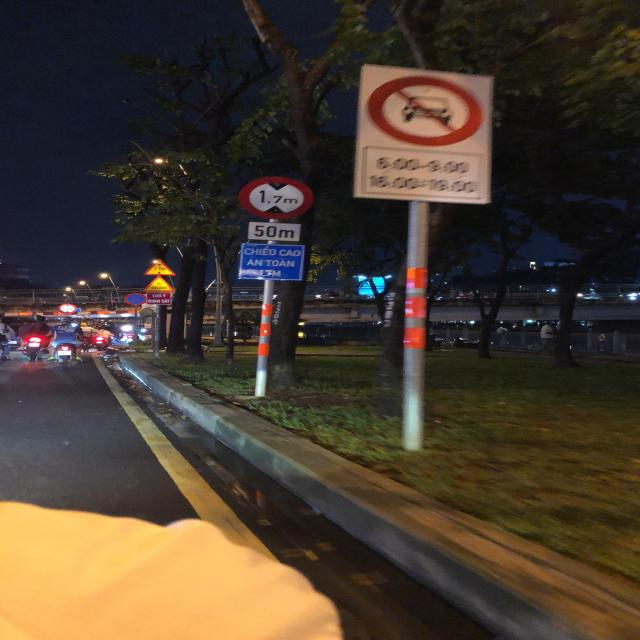Bien bao cam dung xe va do xe: (122, 290, 150, 307)
Bien bao cam xe oto: (364, 69, 496, 148)
Bien bao chieu cao tinh khong thuc te: (140, 258, 179, 276)
Bien bao di cham: (142, 276, 184, 292)
Bien bao han che chieu cao: (235, 176, 318, 220)
